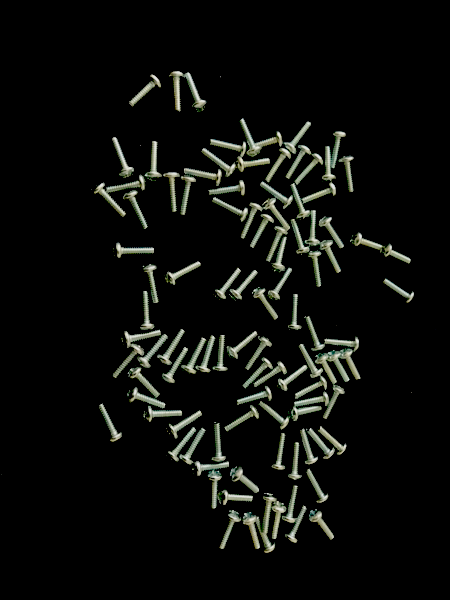shortscrew: (90, 182, 127, 220), (127, 73, 163, 112), (95, 403, 124, 448), (111, 343, 146, 380), (136, 334, 170, 370), (165, 427, 198, 464), (202, 148, 238, 179), (123, 190, 150, 231), (157, 328, 186, 366), (161, 347, 190, 385), (217, 510, 243, 552), (128, 366, 161, 399), (293, 153, 325, 187), (258, 181, 294, 211), (184, 71, 209, 114), (111, 137, 136, 180), (166, 411, 203, 440), (226, 329, 260, 360), (211, 267, 242, 301), (180, 428, 207, 467), (307, 427, 337, 462), (264, 148, 293, 184), (284, 505, 310, 545), (223, 405, 260, 433), (181, 338, 208, 376), (229, 269, 259, 303), (251, 287, 279, 323), (237, 118, 262, 158), (316, 426, 348, 457), (258, 401, 291, 431), (164, 261, 202, 287), (286, 143, 312, 181), (285, 119, 313, 154), (267, 267, 294, 303), (318, 215, 345, 251), (249, 213, 275, 250), (308, 510, 337, 543), (240, 202, 265, 240), (127, 386, 168, 409), (305, 468, 330, 505), (299, 343, 324, 380), (277, 365, 310, 393), (121, 327, 162, 349), (230, 466, 261, 495), (323, 384, 347, 421), (265, 227, 289, 264), (212, 198, 249, 222), (383, 279, 417, 305), (319, 239, 342, 277), (248, 130, 284, 154), (254, 517, 277, 554), (295, 376, 329, 401), (325, 350, 350, 384), (106, 175, 148, 195), (183, 167, 223, 188), (263, 198, 290, 229), (236, 385, 274, 407), (289, 184, 311, 222), (304, 316, 327, 352), (178, 175, 198, 216), (143, 405, 184, 425), (196, 337, 217, 376), (112, 242, 155, 261), (259, 493, 278, 535), (314, 353, 338, 386), (339, 348, 362, 382), (142, 264, 161, 305), (242, 511, 261, 552), (209, 422, 228, 463), (298, 429, 319, 466), (282, 484, 301, 524), (164, 171, 182, 213), (290, 219, 311, 255), (168, 70, 185, 114), (145, 139, 162, 183), (269, 501, 288, 540), (191, 460, 230, 479), (330, 130, 349, 169), (212, 335, 231, 374), (209, 180, 248, 199), (350, 232, 382, 255), (302, 183, 337, 204), (285, 294, 304, 332), (210, 138, 248, 157), (139, 292, 157, 331), (306, 250, 324, 289), (207, 470, 224, 511), (286, 442, 304, 480), (269, 433, 287, 471), (338, 154, 356, 192), (381, 243, 412, 265), (289, 404, 324, 423), (236, 156, 271, 175), (324, 335, 362, 352), (271, 235, 288, 273), (219, 489, 254, 507), (321, 146, 337, 184), (294, 392, 331, 408), (305, 210, 321, 247)
